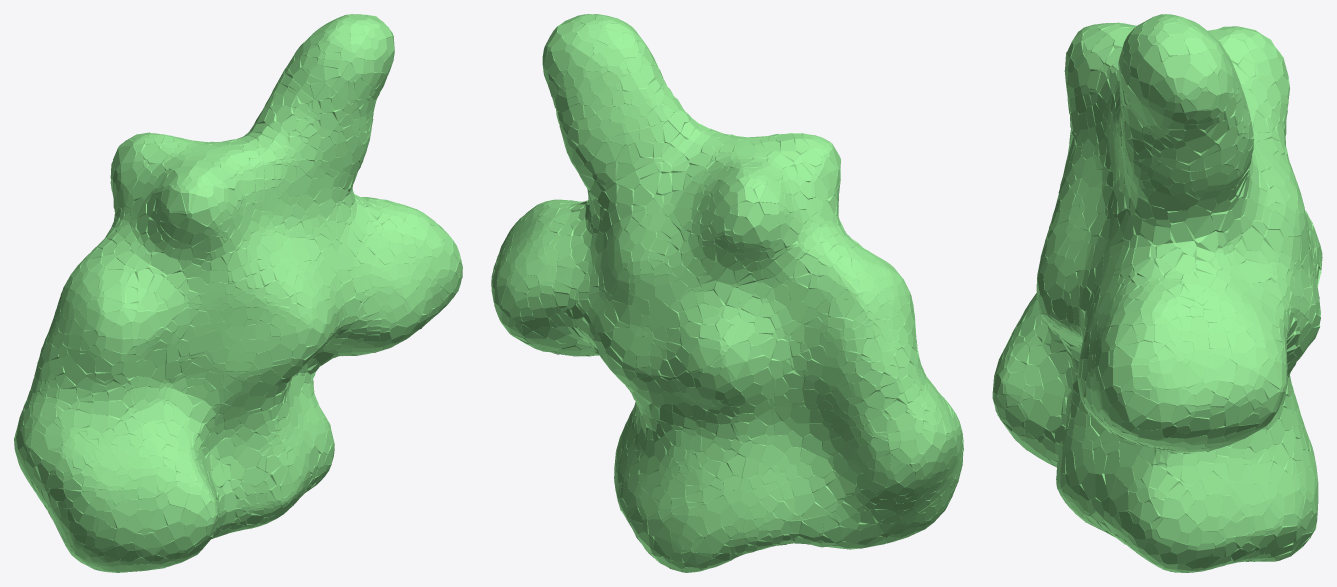
The model's file is 55932_2pct_vorolight.glb.
3 views of the same model, side by side, from view 1: azimuth 30°, elevation 25°; view 2: azimuth 150°, elevation 25°; view 3: azimuth 270°, elevation 25° (orthographic). The views are drawn at different scales.
Parts seen in each view (by area): view 1: 55932_shape10_normal40_noise_2pct_voronoi_mesh_surface.obj; view 2: 55932_shape10_normal40_noise_2pct_voronoi_mesh_surface.obj; view 3: 55932_shape10_normal40_noise_2pct_voronoi_mesh_surface.obj.
Part boxes in pixels (<box>): 55932_shape10_normal40_noise_2pct_voronoi_mesh_surface.obj: <box>14,14,462,572</box>; 55932_shape10_normal40_noise_2pct_voronoi_mesh_surface.obj: <box>491,14,963,572</box>; 55932_shape10_normal40_noise_2pct_voronoi_mesh_surface.obj: <box>992,14,1322,572</box>.
Bounding box in the file's own units: 1.37 × 1.46 × 0.7147.
